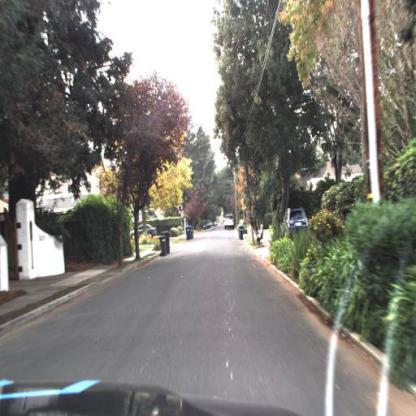car: (280, 199, 315, 248), (128, 218, 162, 246), (223, 211, 240, 236), (203, 220, 215, 234)
